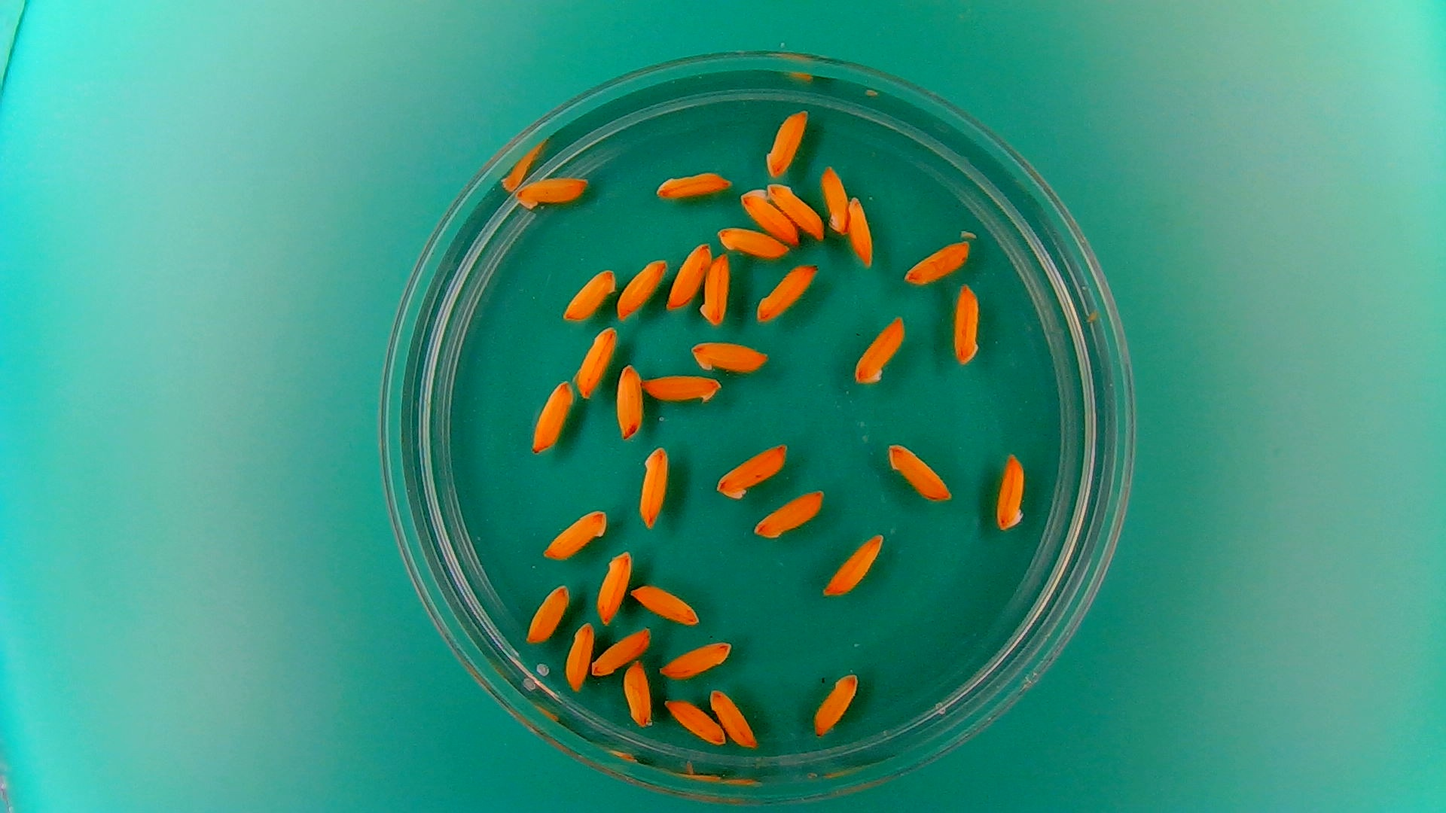no: (712, 439, 791, 502), (883, 438, 954, 504), (822, 530, 886, 598), (851, 312, 908, 387), (750, 486, 827, 540), (755, 260, 819, 323), (540, 506, 609, 562), (615, 254, 668, 321), (573, 324, 619, 400), (529, 377, 575, 453), (767, 180, 825, 239), (901, 237, 972, 285), (740, 185, 796, 245), (764, 106, 810, 179), (590, 625, 654, 677), (689, 336, 771, 376), (707, 685, 758, 749), (560, 265, 617, 322), (593, 546, 633, 626), (664, 694, 726, 745), (658, 636, 733, 678), (630, 582, 701, 626), (666, 240, 711, 309), (812, 671, 859, 737), (525, 581, 572, 645), (516, 171, 590, 211), (636, 443, 670, 530), (641, 370, 723, 406), (994, 450, 1026, 533), (697, 250, 731, 328), (950, 281, 981, 366), (715, 224, 791, 258), (613, 359, 644, 441), (562, 619, 596, 693), (653, 169, 732, 200), (622, 658, 654, 729), (847, 192, 876, 267)
